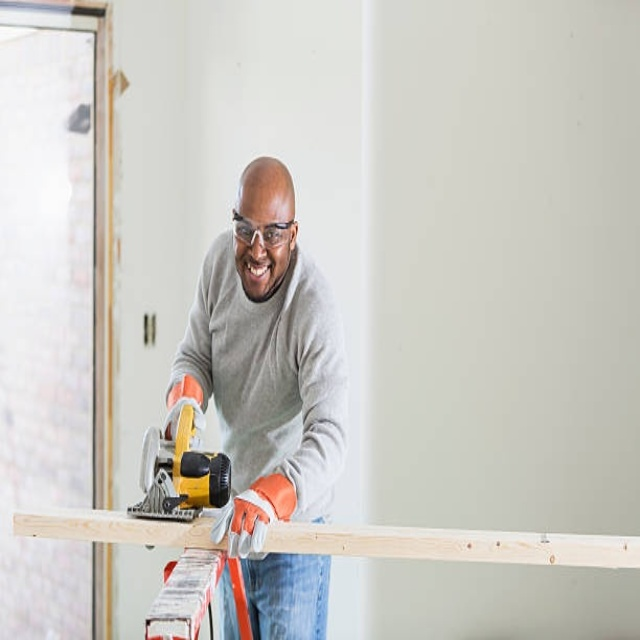Gafas: (232, 210, 295, 249)
Guantes: (217, 472, 295, 563), (164, 374, 204, 442)
Sin_mascara: (242, 254, 271, 295)
